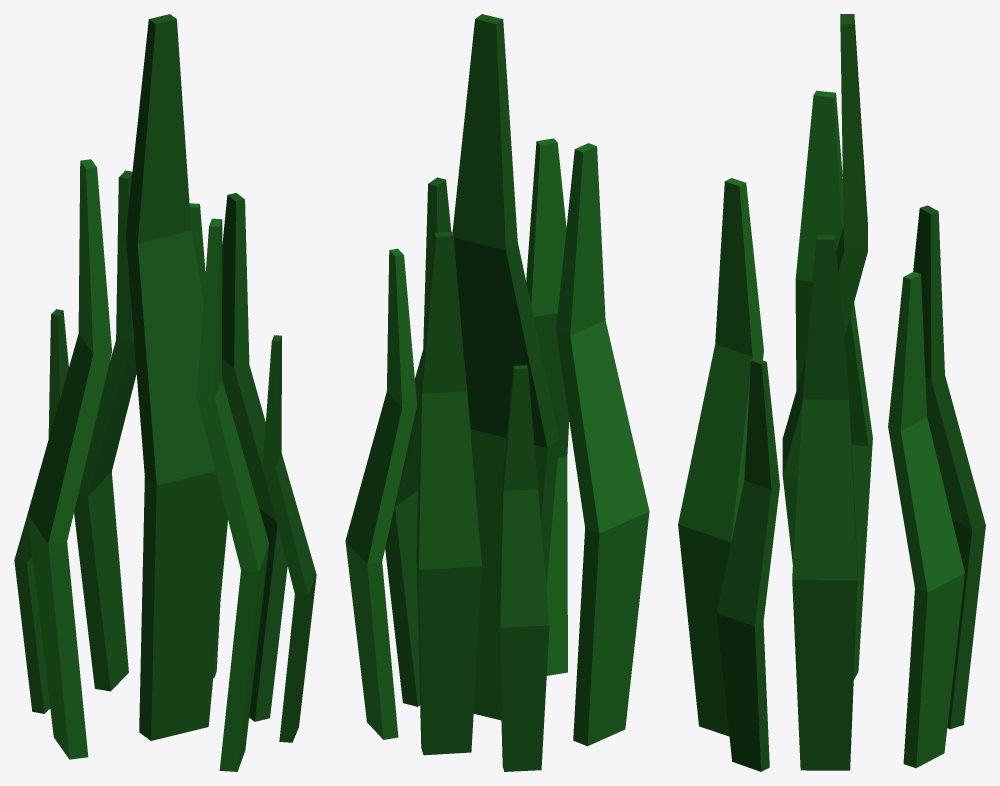
File: Multiple Grass.glb
The picture shows the model from 3 angles, left to right: view 1: azimuth 30°, elevation 25°; view 2: azimuth 150°, elevation 25°; view 3: azimuth 270°, elevation 25°; orthographic projection.
Parts seen in each view (by area): view 1: Grass, Grass.002, Grass.003, Grass.005, Grass.001, Grass.007, Grass.006, Grass.004; view 2: Grass, Grass.002, Grass.005, Grass.006, Grass.004, Grass.003, Grass.001; view 3: Grass.001, Grass.003, Grass.004, Grass.007, Grass.005, Grass.002, Grass.
Boxes of the visible parts, bbox=[...] form: Grass: bbox=[125, 14, 227, 740]; Grass.002: bbox=[27, 159, 111, 759]; Grass.003: bbox=[196, 218, 269, 771]; Grass.005: bbox=[74, 170, 136, 691]; Grass.001: bbox=[222, 193, 287, 721]; Grass.007: bbox=[262, 335, 316, 742]; Grass.006: bbox=[14, 309, 68, 713]; Grass.004: bbox=[189, 203, 220, 677]; Grass: bbox=[452, 14, 559, 720]; Grass.002: bbox=[556, 143, 649, 746]; Grass.005: bbox=[416, 231, 481, 755]; Grass.006: bbox=[498, 365, 549, 771]; Grass.004: bbox=[345, 248, 416, 739]; Grass.003: bbox=[526, 138, 569, 675]; Grass.001: bbox=[385, 177, 451, 706]; Grass.001: bbox=[792, 235, 857, 770]; Grass.003: bbox=[678, 178, 763, 736]; Grass.004: bbox=[888, 271, 964, 768]; Grass.007: bbox=[716, 358, 779, 771]; Grass.005: bbox=[913, 205, 985, 729]; Grass.002: bbox=[795, 90, 872, 679]; Grass: bbox=[782, 14, 867, 564].
Size of the model in its own units: 1.09 by 2.98 by 1.17.
